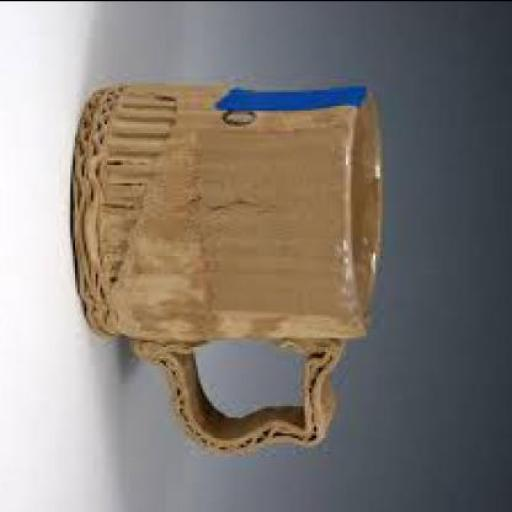cardboard: (73, 82, 385, 448)
